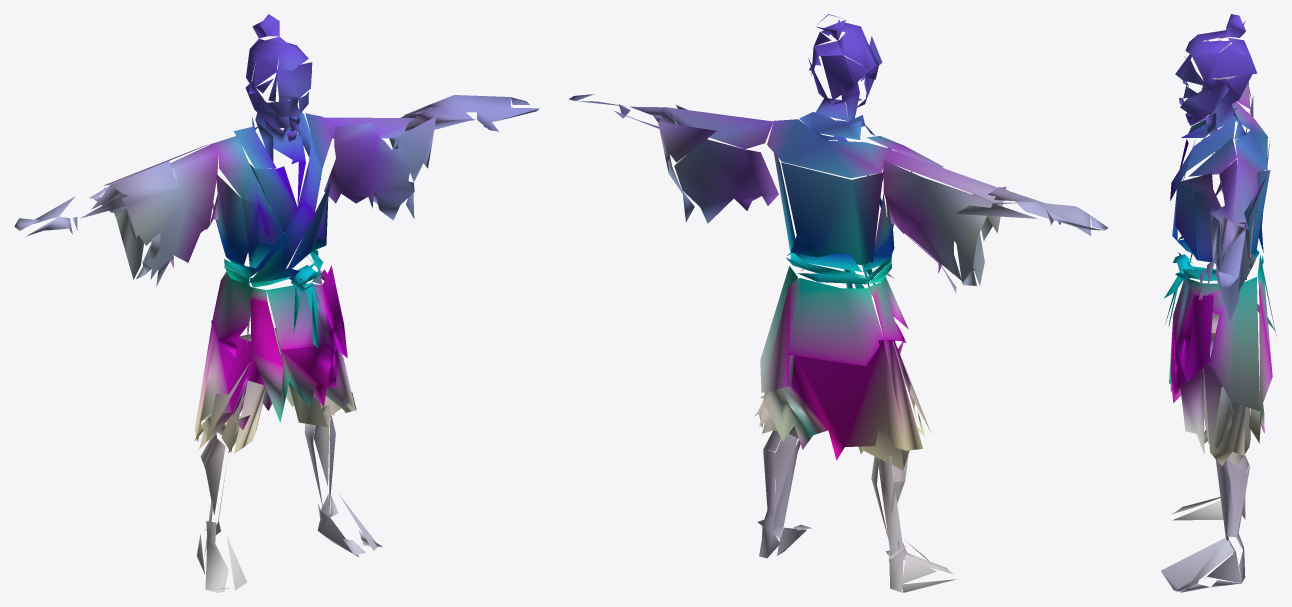
The model's file is zombie_lod1.glb.
3 renders of one model, left to right at view 1: azimuth 30°, elevation 25°; view 2: azimuth 150°, elevation 25°; view 3: azimuth 270°, elevation 25°, orthographic. The views are drawn at different scales.
Visible parts, largest first — view 1: zombie_body; view 2: zombie_body; view 3: zombie_body.
Part boxes in pixels (x1,y1,x2,y2): zombie_body: (14,14,539,592); zombie_body: (568,14,1107,592); zombie_body: (1161,14,1276,592).
Size of the model in its own units: 0.9958 by 0.9864 by 0.2122.
